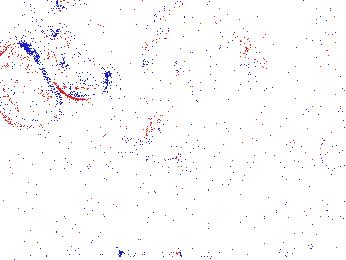moon jellyfish: (164, 46, 269, 119), (141, 1, 253, 63), (1, 43, 63, 128), (264, 21, 342, 86), (45, 31, 108, 101)
